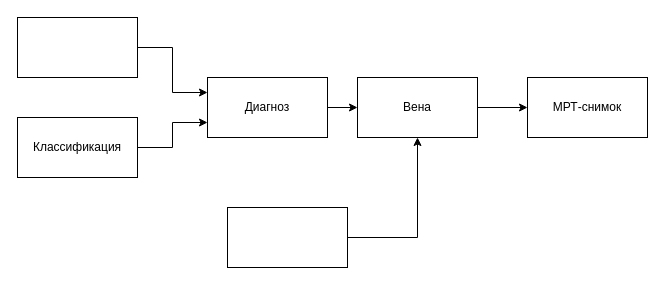
Image size: 665x285. Some labels were removed from this diagram. The shapes that lost their labels are listed below. From the top down, each one's centre as x and y in pixels, then its label:
At [77,47]: "Рекомендованное лечение".
At [287,237]: "Область заболевания".
